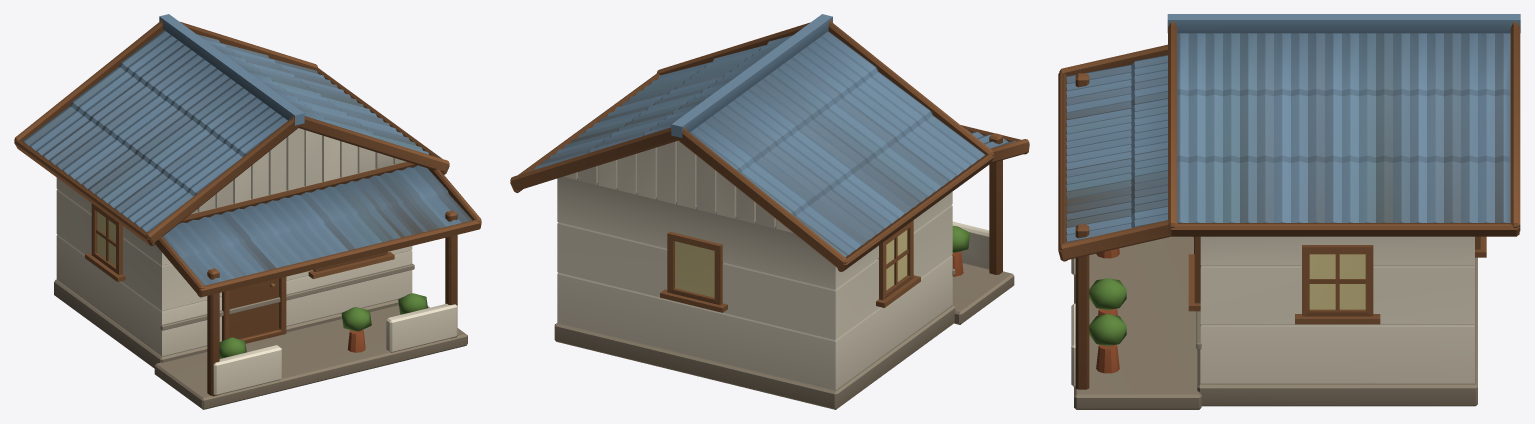
Rendered from rumah_f.glb.
The picture shows the model from 3 angles, left to right: view 1: azimuth 30°, elevation 25°; view 2: azimuth 150°, elevation 25°; view 3: azimuth 270°, elevation 25°; orthographic projection. The views are drawn at different scales.
Visible parts, largest first — view 1: rumah_f_mesh; view 2: rumah_f_mesh; view 3: rumah_f_mesh.
Part boxes in pixels (x1,y1,x2,y2): rumah_f_mesh: (14,14,481,409); rumah_f_mesh: (510,14,1029,409); rumah_f_mesh: (1058,14,1520,409).
Size of the model in its own units: 5.35 by 4.01 by 5.43.
